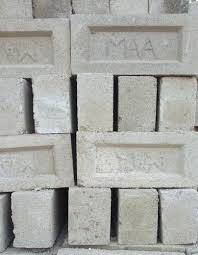brick: (71, 15, 195, 73), (77, 131, 197, 187), (1, 134, 74, 191), (0, 19, 69, 78), (11, 191, 51, 249), (67, 190, 109, 245), (118, 76, 158, 133), (119, 191, 158, 246), (34, 73, 69, 134), (159, 75, 196, 129), (161, 192, 198, 245), (78, 74, 111, 131), (1, 77, 24, 134)
